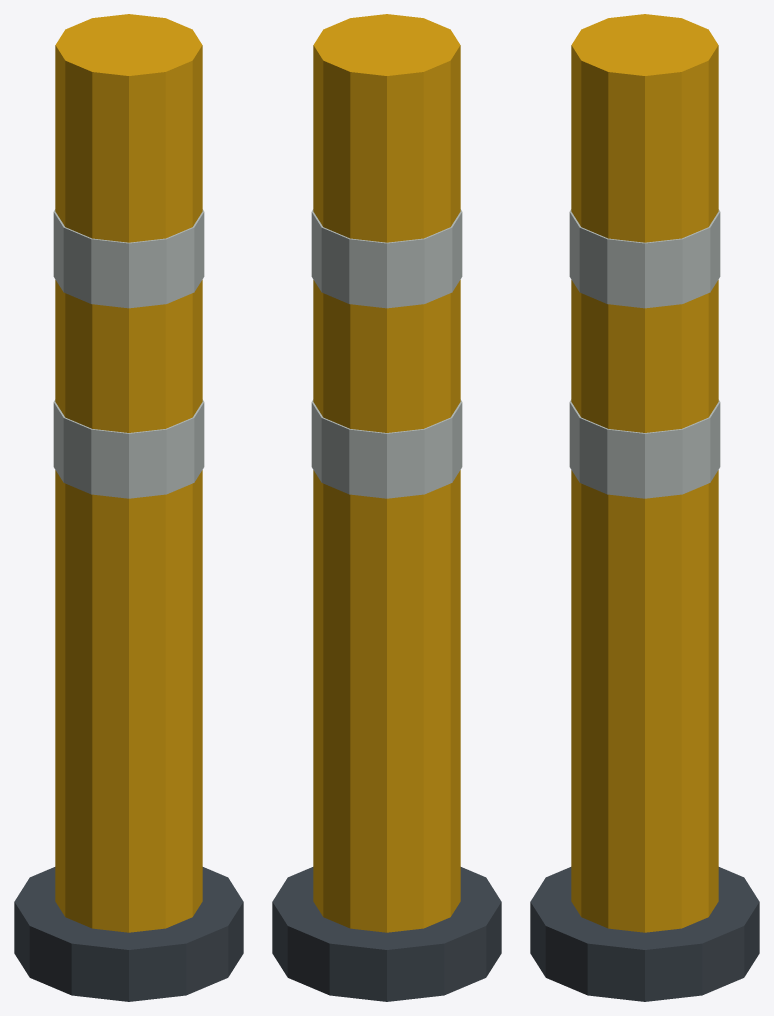
The model's file is BollardYellow.fbx.
3 renders of one model, left to right at view 1: azimuth 30°, elevation 25°; view 2: azimuth 150°, elevation 25°; view 3: azimuth 270°, elevation 25°, orthographic.
Parts seen in each view (by area): view 1: BollardYellow; view 2: BollardYellow; view 3: BollardYellow.
Part boxes in pixels (bbox=[...]): BollardYellow: bbox=[14, 14, 243, 1001]; BollardYellow: bbox=[272, 14, 501, 1001]; BollardYellow: bbox=[530, 14, 759, 1001].
Size of the model in its own units: 24 by 105 by 24.
1 material, 1 textured.
